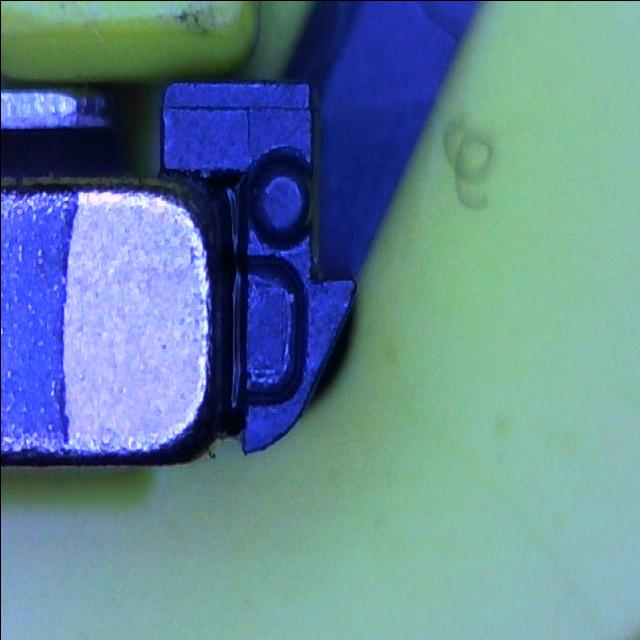lacking: (236, 253, 306, 408)
